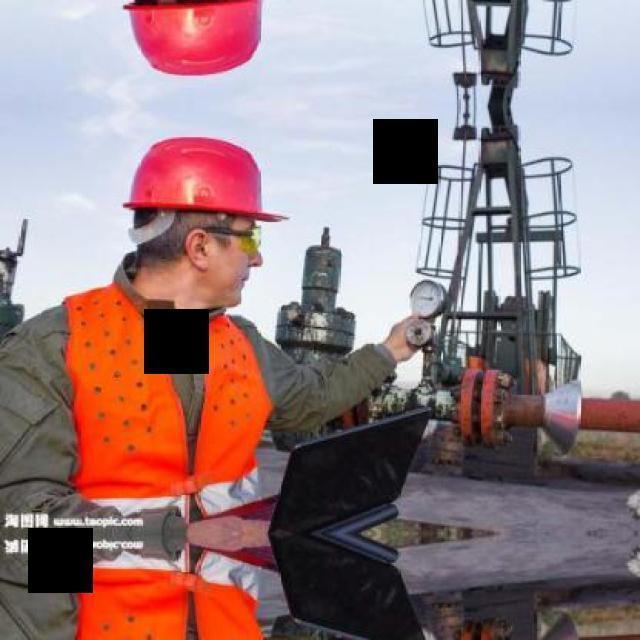red helmet: (124, 129, 290, 250)
